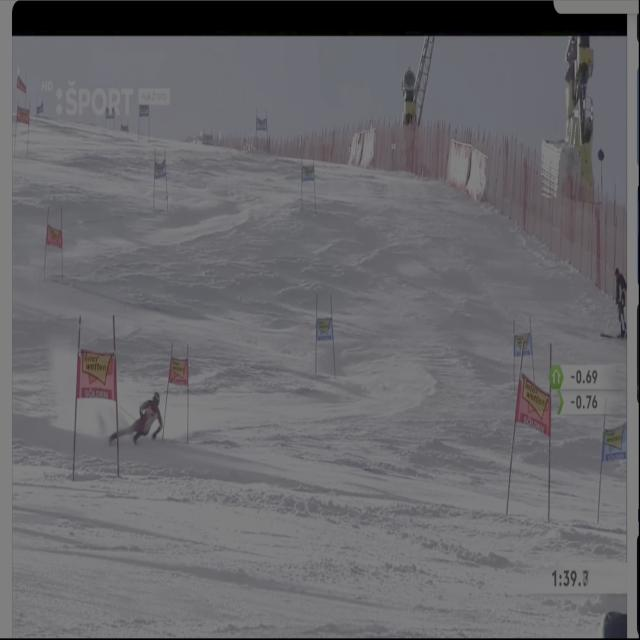gate: (105, 314, 132, 484), (507, 343, 528, 543), (542, 339, 559, 541), (322, 288, 345, 379), (161, 336, 178, 454), (72, 306, 82, 492), (521, 309, 542, 386), (182, 335, 195, 458), (312, 282, 322, 392), (506, 315, 518, 398), (307, 145, 320, 216), (162, 146, 173, 220), (23, 99, 36, 155), (150, 147, 160, 216), (294, 156, 305, 213), (14, 90, 20, 159)
